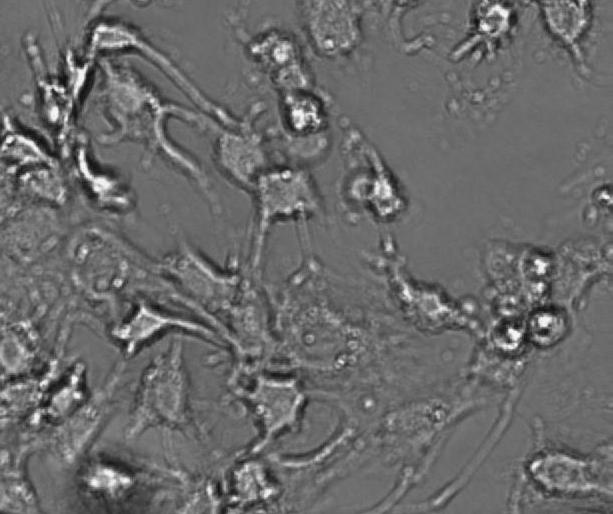Dead: (336, 132, 411, 228), (68, 140, 141, 218), (450, 2, 520, 68), (241, 31, 316, 90), (75, 454, 141, 510), (273, 82, 327, 134), (525, 306, 573, 349), (486, 311, 525, 357)
